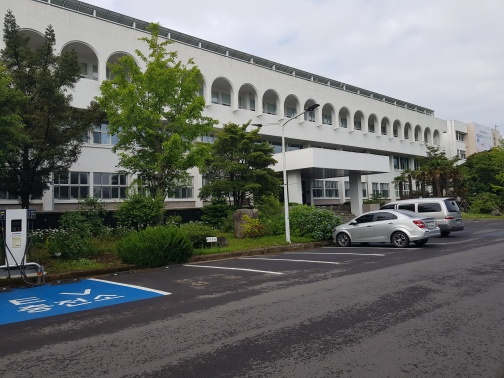Main Building of University: (34, 7, 499, 199), (209, 76, 351, 133), (272, 146, 394, 199), (353, 110, 442, 147)
